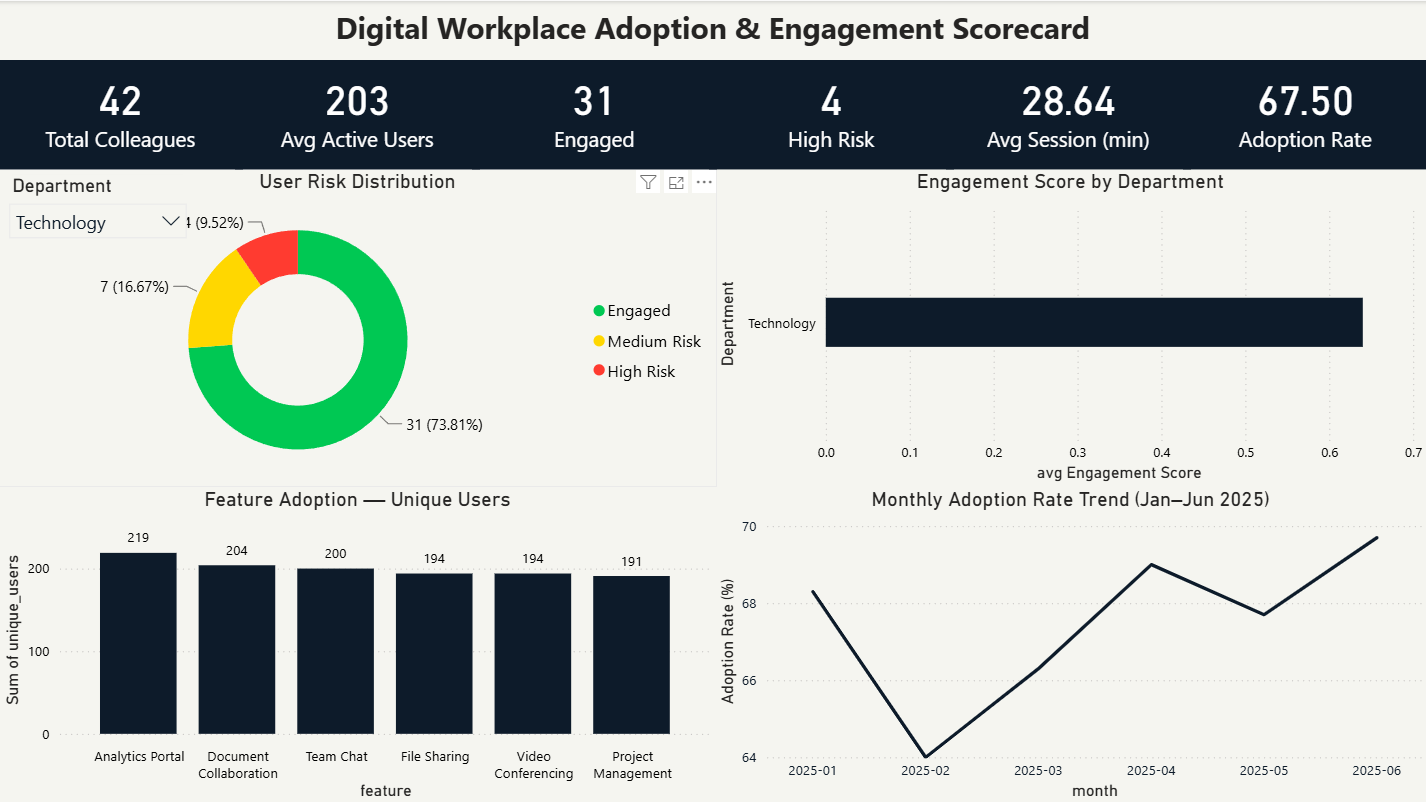

The dashboard page shown, as its layout file describes it:
{"tool":"powerbi","page":{"name":"Digital Workplace Adoption & Engagement Scorecard","canvas":[1280,720],"ordinal":0},"visuals":[{"type":"PBI_CV_7B952816_A48F_49B4_9E13_15E3BB2C0337","fields":{"Values":["adoption_dept_scorecard.Total Colleagues"]},"box":[0,52.4,219.2,98.2],"z":0,"group":"g1"},{"type":"PBI_CV_7B952816_A48F_49B4_9E13_15E3BB2C0337","fields":{"Values":["adoption_dept_scorecard.Avg Monthly Active Users"]},"box":[212.2,52.4,219.2,98.2],"z":1000,"group":"g1"},{"type":"lineChart","title":"Monthly Adoption Rate Trend (Jan–Jun 2025)","fields":{"Category":["adoption_monthly_trend.month.Variation.Date Hierarchy.Year"],"Y":["adoption_dept_scorecard.Monthly Adoption Rate"]},"box":[640,435.6,640,285],"z":1000},{"type":"PBI_CV_7B952816_A48F_49B4_9E13_15E3BB2C0337","fields":{"Values":["adoption_dept_scorecard.Engaged Users"]},"box":[424.3,52.4,219.2,98.2],"z":2000,"group":"g1"},{"type":"clusteredBarChart","title":"Engagement Score by Department","fields":{"Category":["adoption_dept_scorecard.department"],"Y":["Sum(adoption_dept_scorecard.avg_engagement_score)"]},"box":[640,150.6,640,285],"z":2000},{"type":"PBI_CV_7B952816_A48F_49B4_9E13_15E3BB2C0337","fields":{"Values":["adoption_dept_scorecard.High Risk Users"]},"box":[636.5,52.4,219.2,98.2],"z":3000,"group":"g1"},{"type":"clusteredColumnChart","title":"Feature Adoption — Unique Users","fields":{"Category":["adoption_features.feature"],"Y":["Sum(adoption_features.unique_users)"]},"box":[0,435.6,644,285],"z":3000},{"type":"PBI_CV_7B952816_A48F_49B4_9E13_15E3BB2C0337","fields":{"Values":["adoption_dept_scorecard.Avg Session Duration"]},"box":[848.7,52.4,219.2,98.2],"z":4000,"group":"g1"},{"type":"donutChart","title":"User Risk Distribution","fields":{"Category":["adoption_user_summary.risk_flag"],"Y":["CountNonNull(adoption_user_summary.user_id)"]},"box":[0,150.2,644.1,285],"z":4000},{"type":"PBI_CV_7B952816_A48F_49B4_9E13_15E3BB2C0337","fields":{"Values":["adoption_dept_scorecard.Overall Adoption Rate"]},"box":[1060.8,52.4,219.2,98.2],"z":5000,"group":"g1"},{"type":"slicer","fields":{"Values":["adoption_dept_scorecard.department"]},"box":[0,150.6,178.8,72.6],"z":5000},{"type":"textbox","box":[0,0,1280,52.4],"z":6000},{"type":"group","id":"g1","title":"Group 1","box":[0,52.4,1280,98.2],"z":6001}]}

Visuals, with their boxes in screenshot pixels (x1, y1, x2, y2), scaled from the page's 1280x720 canvas onto the 1426x802 screenshot:
PBI_CV_7B952816_A48F_49B4_9E13_15E3BB2C0337 - adoption_dept_scorecard.Total Colleagues: box=[0, 58, 244, 168]
PBI_CV_7B952816_A48F_49B4_9E13_15E3BB2C0337 - adoption_dept_scorecard.Avg Monthly Active Users: box=[236, 58, 481, 168]
"Monthly Adoption Rate Trend (Jan–Jun 2025)" lineChart: box=[713, 485, 1425, 801]
PBI_CV_7B952816_A48F_49B4_9E13_15E3BB2C0337 - adoption_dept_scorecard.Engaged Users: box=[473, 58, 717, 168]
"Engagement Score by Department" clusteredBarChart: box=[713, 168, 1425, 485]
PBI_CV_7B952816_A48F_49B4_9E13_15E3BB2C0337 - adoption_dept_scorecard.High Risk Users: box=[709, 58, 953, 168]
"Feature Adoption — Unique Users" clusteredColumnChart: box=[0, 485, 717, 801]
PBI_CV_7B952816_A48F_49B4_9E13_15E3BB2C0337 - adoption_dept_scorecard.Avg Session Duration: box=[946, 58, 1190, 168]
"User Risk Distribution" donutChart: box=[0, 167, 718, 485]
PBI_CV_7B952816_A48F_49B4_9E13_15E3BB2C0337 - adoption_dept_scorecard.Overall Adoption Rate: box=[1182, 58, 1425, 168]
slicer - adoption_dept_scorecard.department: box=[0, 168, 199, 249]
textbox: box=[0, 0, 1425, 58]
"Group 1" group: box=[0, 58, 1425, 168]
